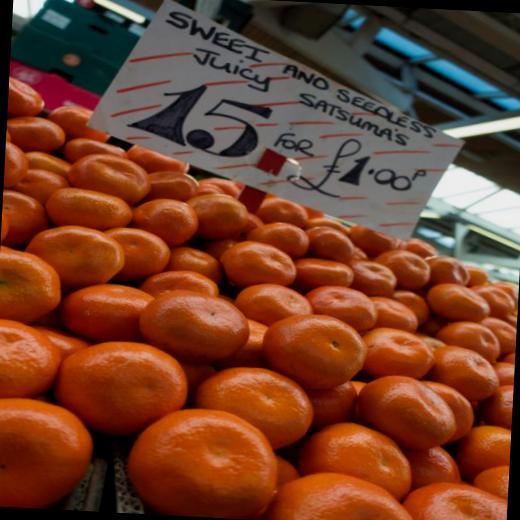Grape: (122, 411, 301, 520), (54, 339, 179, 437), (201, 365, 324, 448), (0, 397, 86, 508), (296, 416, 412, 496), (273, 470, 408, 520), (406, 480, 508, 520)
